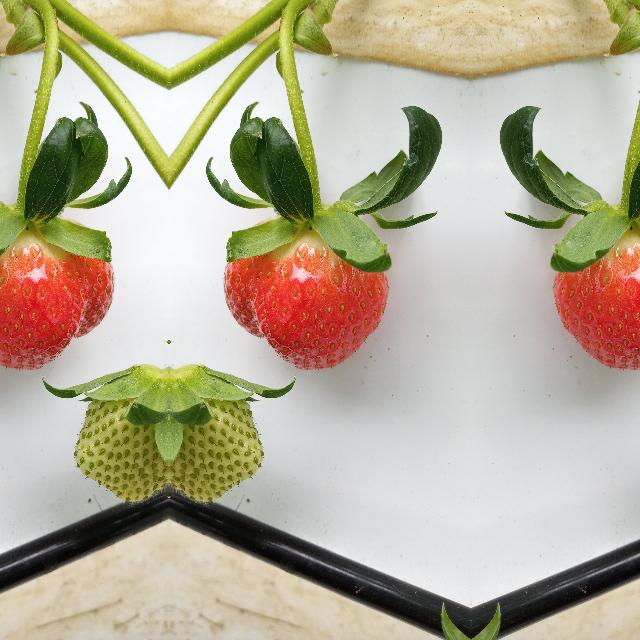Health_100: (222, 214, 388, 370), (0, 214, 114, 370), (552, 214, 640, 370)
